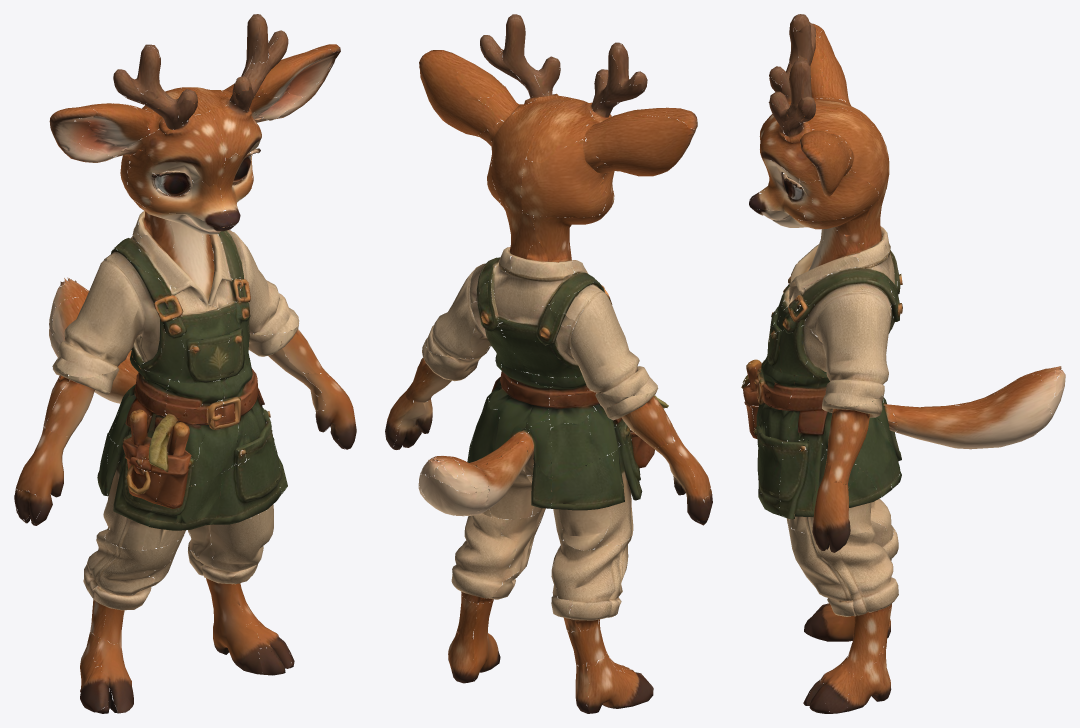
Rendered from 11_garden_deer-v1.glb.
The picture shows the model from 3 angles, left to right: view 1: azimuth 30°, elevation 25°; view 2: azimuth 150°, elevation 25°; view 3: azimuth 270°, elevation 25°; orthographic projection. The views are drawn at different scales.
Parts seen in each view (by area): view 1: tripo_node_4521a550-909b-4f99-8c98-e2b0f23457d6; view 2: tripo_node_4521a550-909b-4f99-8c98-e2b0f23457d6; view 3: tripo_node_4521a550-909b-4f99-8c98-e2b0f23457d6.
Boxes of the visible parts, <box> form: tripo_node_4521a550-909b-4f99-8c98-e2b0f23457d6: <box>14,14,356,713</box>; tripo_node_4521a550-909b-4f99-8c98-e2b0f23457d6: <box>385,14,712,713</box>; tripo_node_4521a550-909b-4f99-8c98-e2b0f23457d6: <box>741,14,1065,713</box>.
Bounding box in the file's own units: 1.03 × 1.95 × 0.9065.
1 material, 1 textured.
